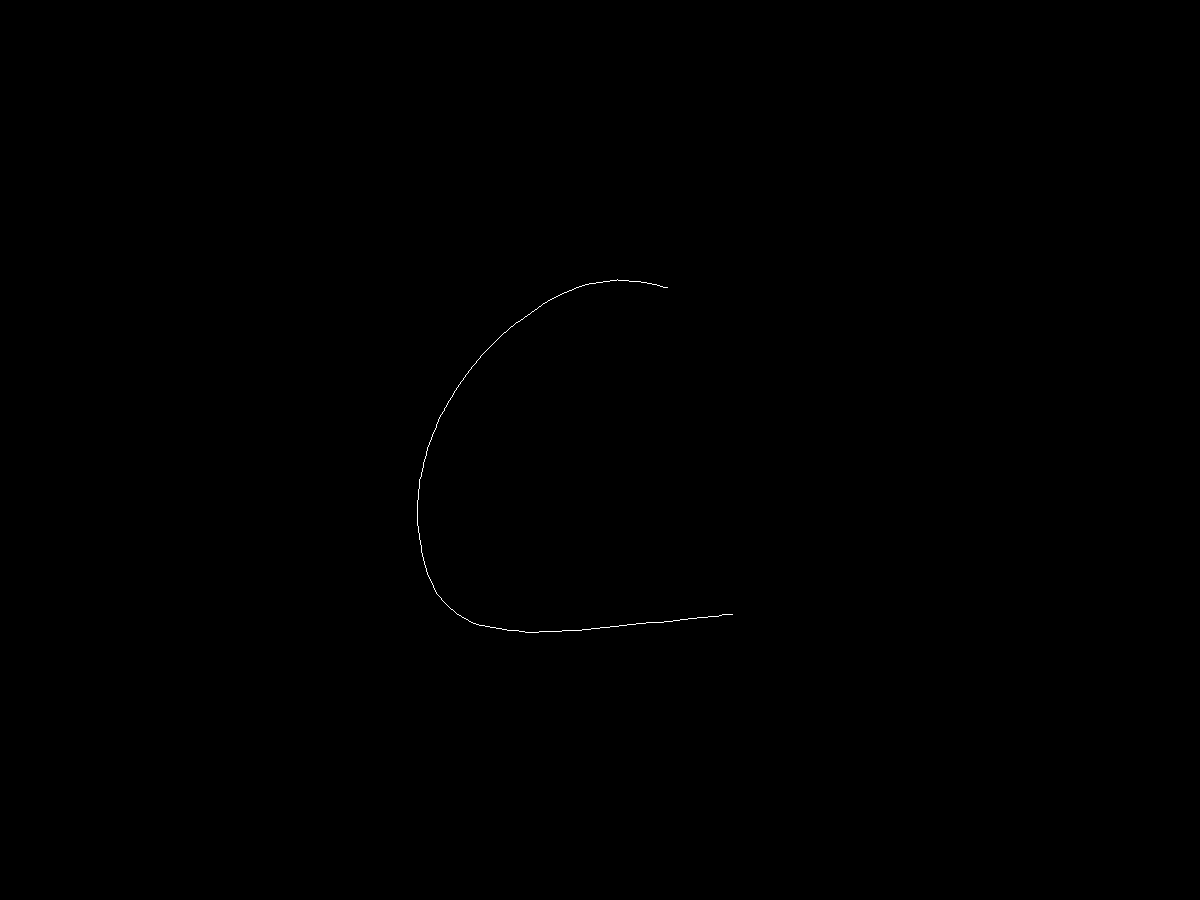dian1: (659, 280, 683, 298)
dian2: (723, 602, 747, 628)
